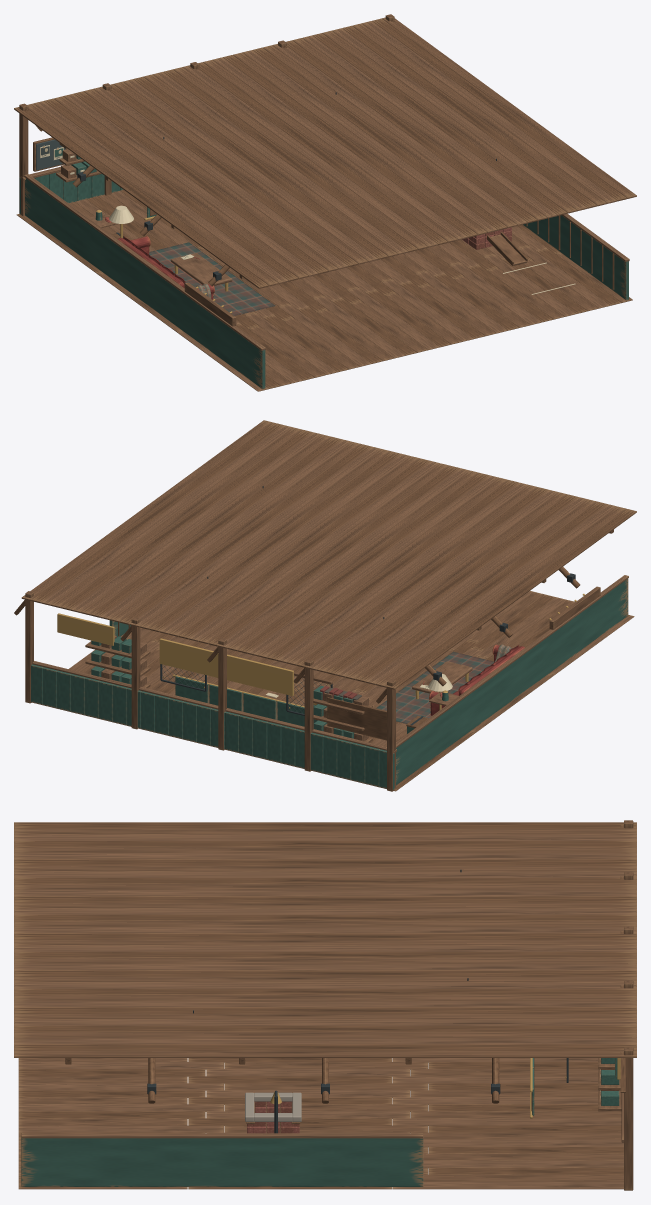
The model's file is last_stop.glb.
The picture shows the model from 3 angles, top to bottom: view 1: azimuth 30°, elevation 25°; view 2: azimuth 150°, elevation 25°; view 3: azimuth 270°, elevation 25°; orthographic projection. The views are drawn at different scales.
Parts seen in each view (by area): view 1: Last Stop fitted joinery; view 2: Last Stop fitted joinery; view 3: Last Stop fitted joinery.
Part boxes in pixels (x1,y1,x2,y2): Last Stop fitted joinery: (14, 14, 636, 391); Last Stop fitted joinery: (14, 420, 636, 791); Last Stop fitted joinery: (14, 820, 636, 1190).
Size of the model in its own units: 16.47 by 4.45 by 17.94.
22 materials, 10 textured.
